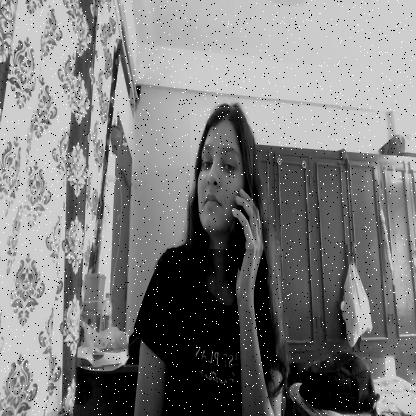Distracted: (190, 107, 253, 249)
